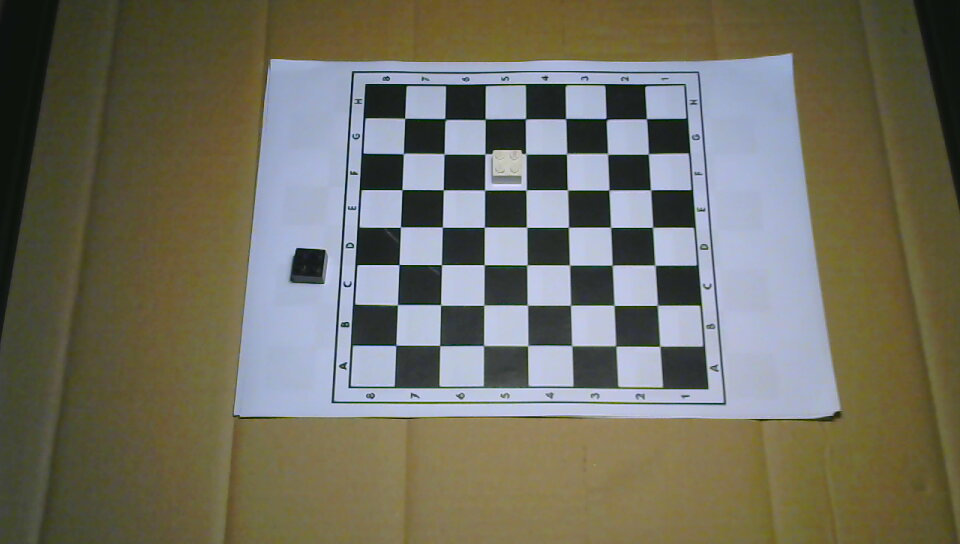bp: (291, 247, 327, 286)
wp: (491, 148, 523, 186)
